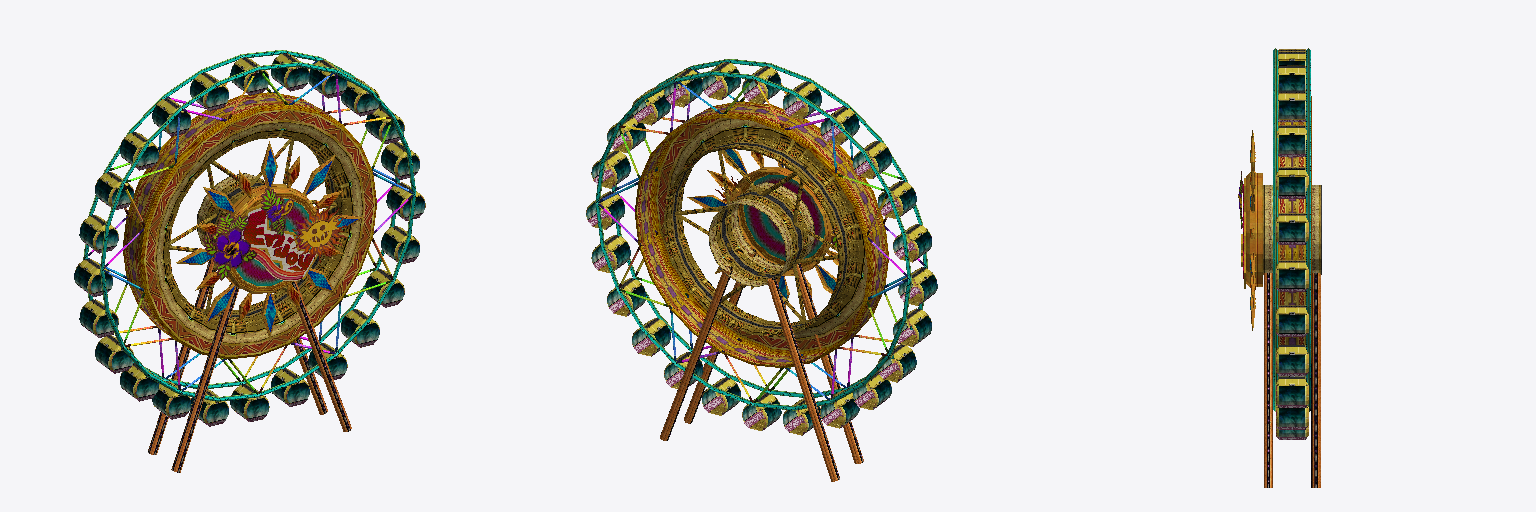
3 views of the same model, side by side, from view 1: azimuth 30°, elevation 25°; view 2: azimuth 150°, elevation 25°; view 3: azimuth 270°, elevation 25° (orthographic).
Parts seen in each view (by area): view 1: polygon16, polygon13, polygon15, polygon7, polygon9, polygon14, polygon1, polygon12, polygon10, polygon4, polygon8, polygon11 (+20 smaller); view 2: polygon16, polygon13, polygon15, polygon8, polygon7, polygon14, polygon9, polygon10, polygon12; view 3: polygon7, polygon15, polygon9, polygon16, polygon8.
Boxes of the visible parts, x1=… form: polygon16: x1=123, y1=92, x2=376, y2=358; polygon13: x1=156, y1=122, x2=362, y2=343; polygon15: x1=83, y1=50, x2=415, y2=401; polygon7: x1=148, y1=258, x2=351, y2=472; polygon9: x1=176, y1=141, x2=363, y2=338; polygon14: x1=88, y1=61, x2=413, y2=393; polygon1: x1=203, y1=188, x2=293, y2=280; polygon12: x1=183, y1=149, x2=357, y2=331; polygon10: x1=236, y1=199, x2=311, y2=285; polygon4: x1=243, y1=210, x2=313, y2=270; polygon8: x1=197, y1=173, x2=265, y2=246; polygon11: x1=200, y1=161, x2=339, y2=320; polygon16: x1=635, y1=101, x2=888, y2=367; polygon13: x1=663, y1=119, x2=867, y2=338; polygon15: x1=595, y1=59, x2=927, y2=410; polygon8: x1=709, y1=182, x2=814, y2=286; polygon7: x1=660, y1=248, x2=863, y2=481; polygon14: x1=598, y1=70, x2=923, y2=402; polygon9: x1=687, y1=149, x2=838, y2=306; polygon10: x1=744, y1=174, x2=824, y2=260; polygon12: x1=694, y1=149, x2=835, y2=303; polygon7: x1=1264, y1=272, x2=1320, y2=487; polygon15: x1=1273, y1=48, x2=1310, y2=411; polygon9: x1=1246, y1=130, x2=1262, y2=330; polygon16: x1=1278, y1=96, x2=1311, y2=363; polygon8: x1=1263, y1=185, x2=1321, y2=274.
Size of the model in its own units: 805 by 870 by 172.
17 materials, 17 textured.